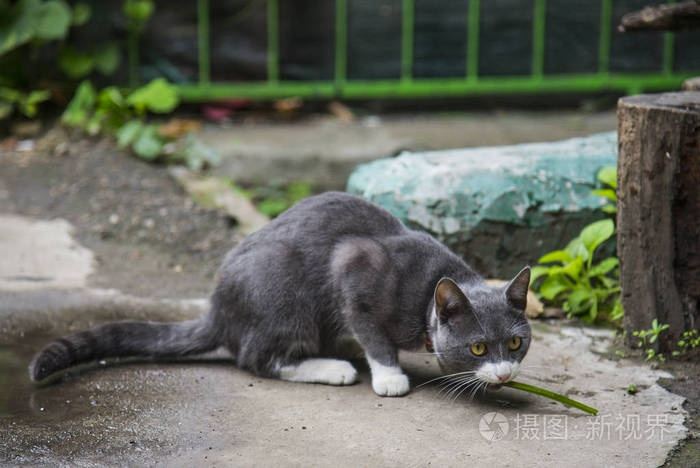cat: (29, 189, 534, 398)
